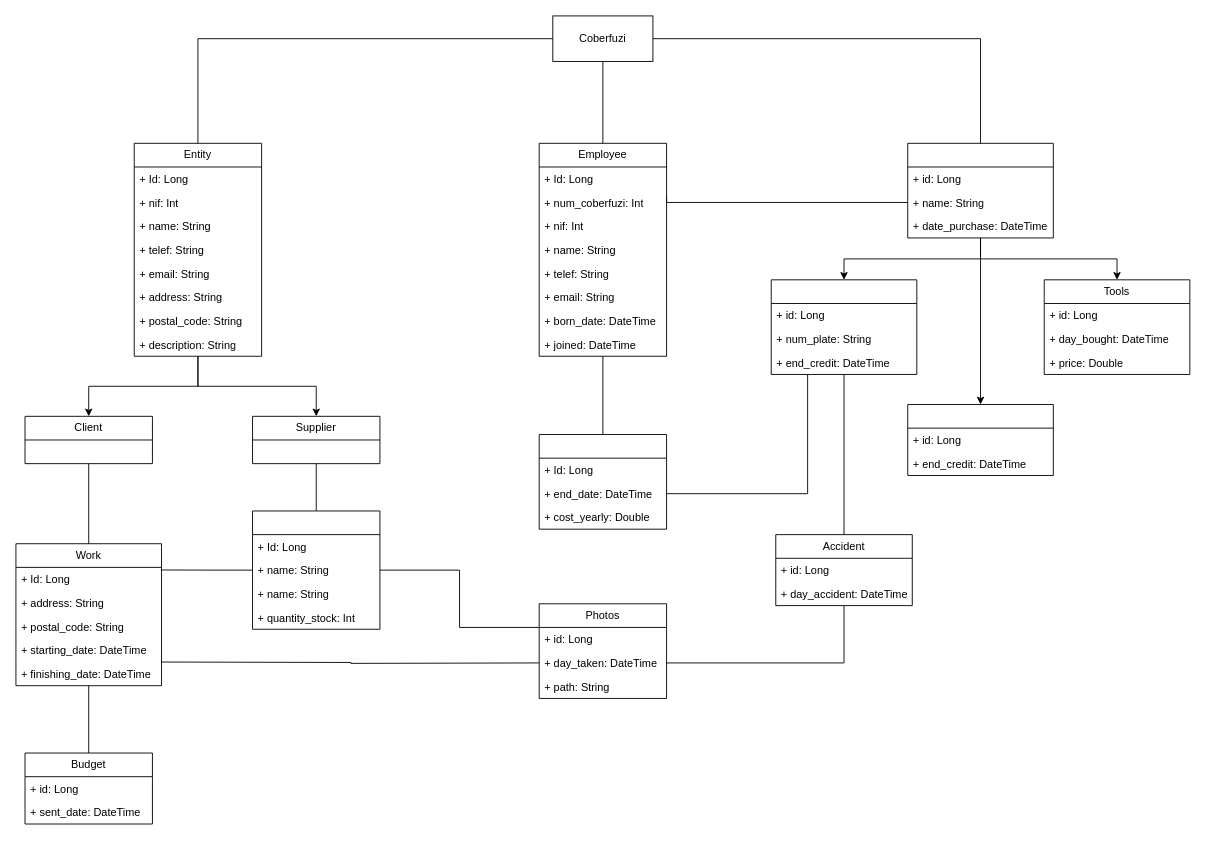
Some shapes in this 1206 by 843 pixel diagram are drawn without their labels. The shapes that lost their labels are listed below. From the top down, each one's box as (x1, y1, x2, y2) in pixels, then its label:
(907, 142, 1053, 238): Equipment
(770, 279, 917, 374): Vehicle
(907, 404, 1053, 475): Machinery
(538, 434, 667, 529): Insurance
(252, 510, 380, 629): Supply
